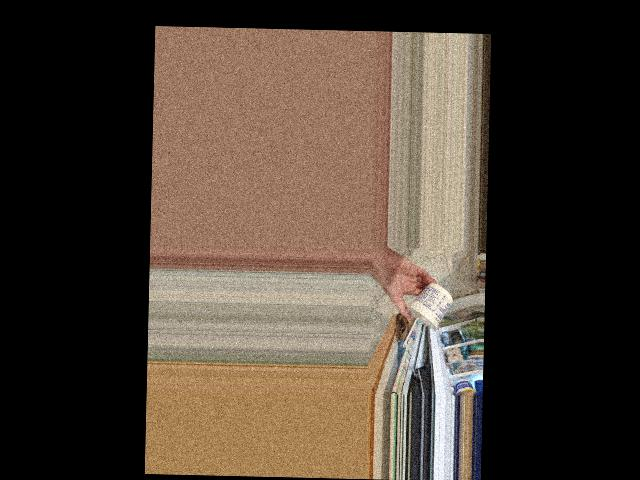cotage: (407, 280, 453, 332)
